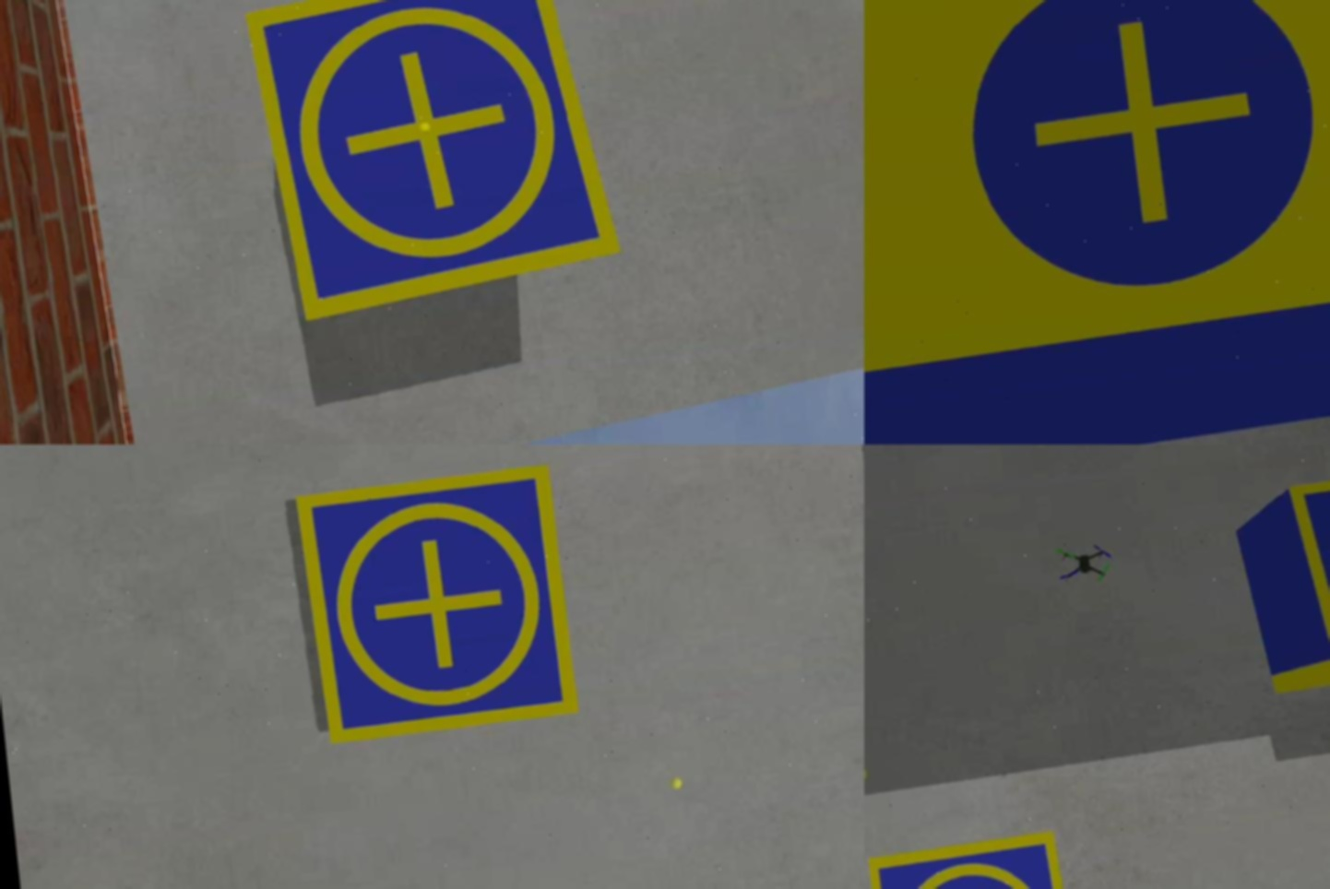large_base: (865, 1, 1330, 445)
small_base: (236, 1, 630, 332), (294, 462, 582, 745), (868, 831, 1088, 889)
